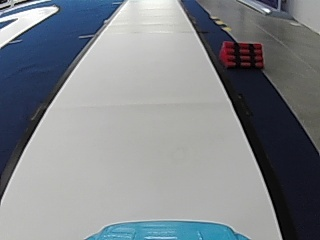bomb: (218, 41, 265, 66)
